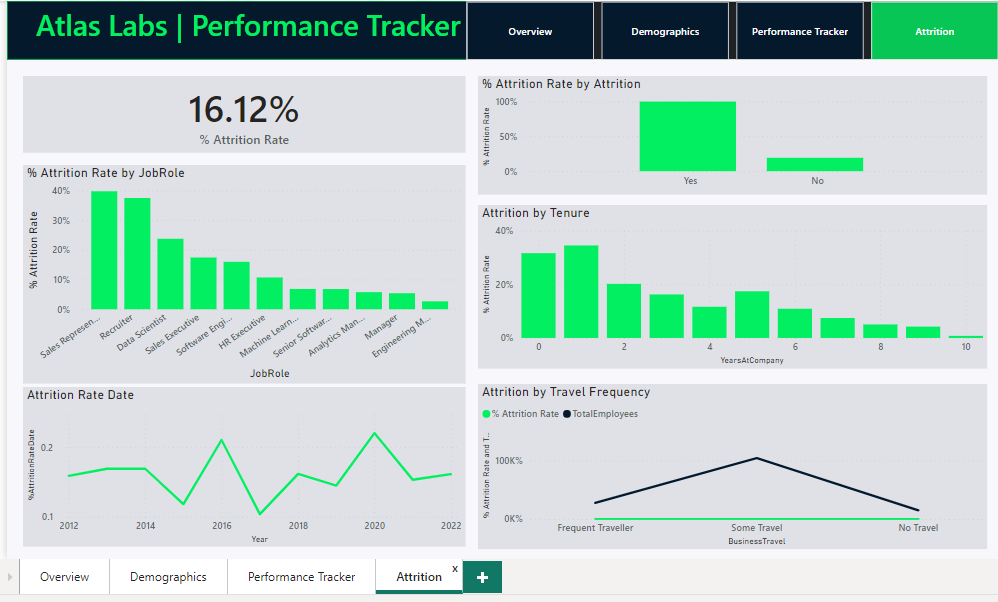

This screenshot's page, from the dashboard's own definition file:
{"tool":"powerbi","page":{"name":"Attrition","canvas":[1280,720],"ordinal":3},"visuals":[{"type":"card","fields":{"Values":["_Measures.% Attrition Rate"]},"box":[20.6,96.3,571.2,99.1],"z":0},{"type":"columnChart","fields":{"Category":["DimEmployee.Department","DimEmployee.JobRole"],"Y":["_Measures.% Attrition Rate"]},"box":[20.6,212,571.2,282.2],"z":1000},{"type":"lineChart","title":"Attrition Rate Date ","fields":{"Y":["_Measures.%AttritionRateDate"],"Category":["DimDate.Date.Variation.Date Hierarchy.Year"]},"box":[20.6,498.2,571.2,206.5],"z":2000},{"type":"lineChart","title":"Attrition by Travel Frequency","fields":{"Y":["_Measures.% Attrition Rate","_Measures.TotalEmployees"],"Category":["DimEmployee.BusinessTravel"]},"box":[608.3,494.1,656.5,213.3],"z":3000},{"type":"columnChart","fields":{"Y":["_Measures.% Attrition Rate"],"Category":["DimEmployee.Attrition"]},"box":[608.3,96.3,656.5,152.8],"z":4000},{"type":"columnChart","title":" Attrition by Tenure","fields":{"Y":["_Measures.% Attrition Rate"],"Category":["DimEmployee.YearsAtCompany"]},"box":[608.3,262.9,656.5,210.6],"z":5000},{"type":"shape","box":[0,0,1280,75.7],"z":6000},{"type":"textbox","box":[32,0,624,64],"z":7000},{"type":"pageNavigator","box":[591.8,0,688.2,75.7],"z":8000}]}

Visuals, with their boxes on the page's 1280x720 design canvas (x1, y1, x2, y2). These are canvas units, not pixel positions in the 998x602 screenshot, which may show the page scaled, cropped or inside an application window:
card - _Measures.% Attrition Rate: 21 96 592 195
columnChart - DimEmployee.Department x DimEmployee.JobRole: 21 212 592 494
"Attrition Rate Date " lineChart: 21 498 592 705
"Attrition by Travel Frequency" lineChart: 608 494 1265 707
columnChart - _Measures.% Attrition Rate x DimEmployee.Attrition: 608 96 1265 249
" Attrition by Tenure" columnChart: 608 263 1265 474
shape: 0 0 1280 76
textbox: 32 0 656 64
pageNavigator: 592 0 1280 76
